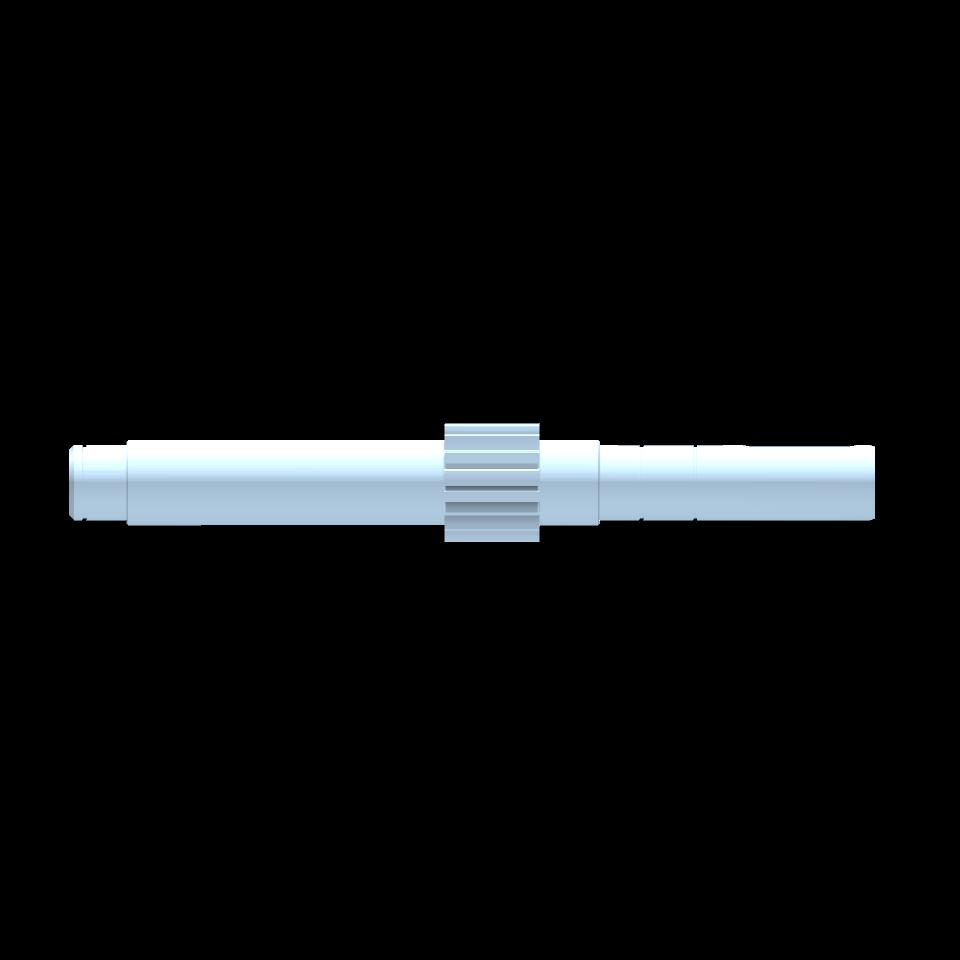Straight: (445, 423, 539, 543)
